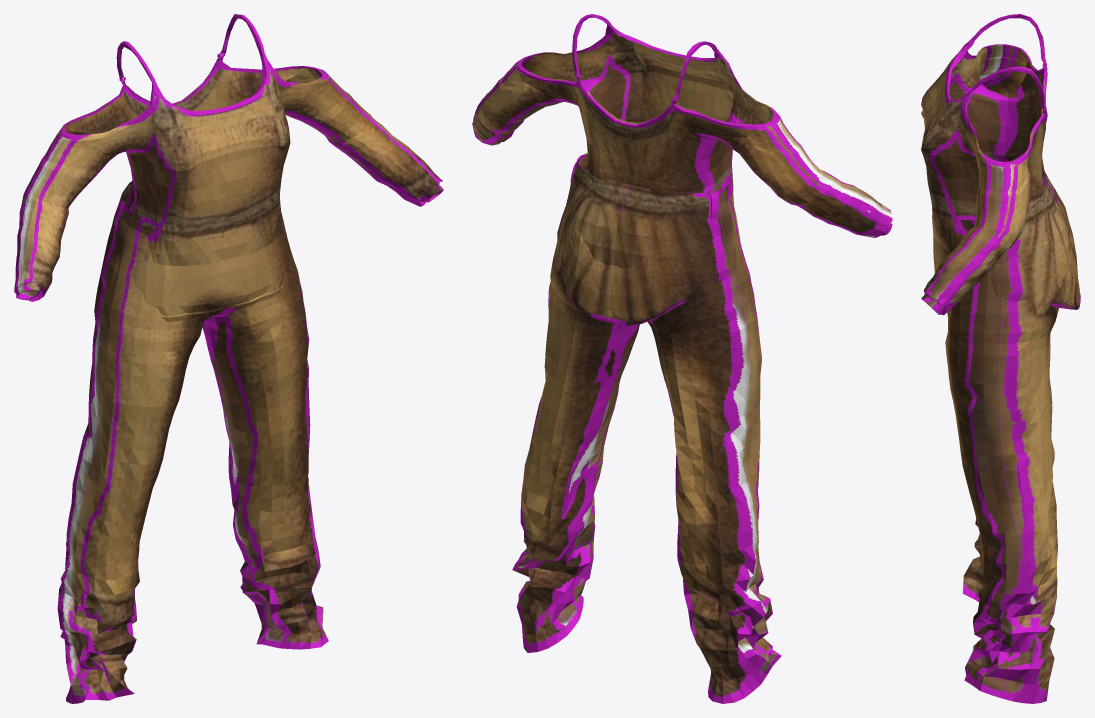
3 views of the same model, side by side, from view 1: azimuth 30°, elevation 25°; view 2: azimuth 150°, elevation 25°; view 3: azimuth 270°, elevation 25° (orthographic). The views are drawn at different scales.
Size of the model in its own units: 0.6044 by 0.8821 by 0.2068.
Materials: 1 (1 with a texture image).
